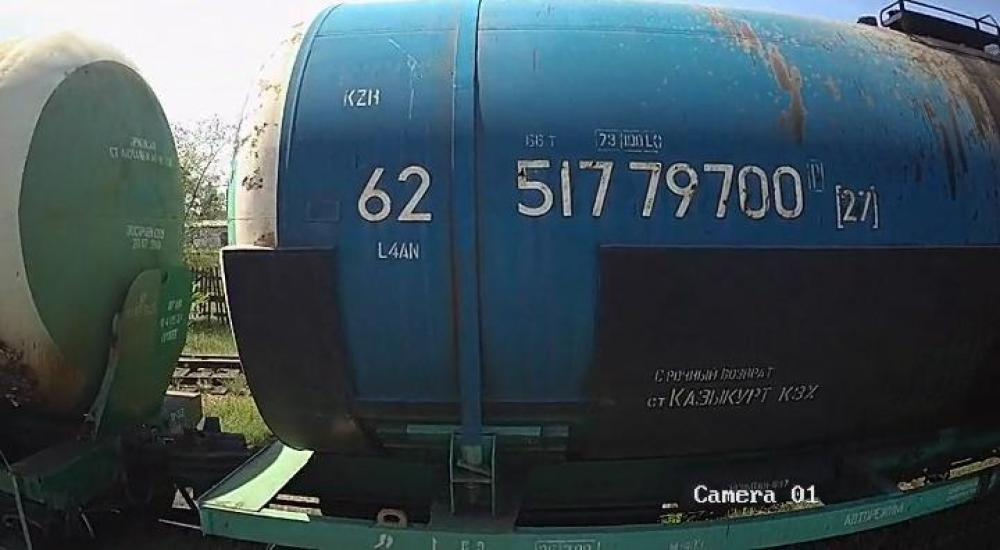Wagon-number: (509, 156, 808, 225)
